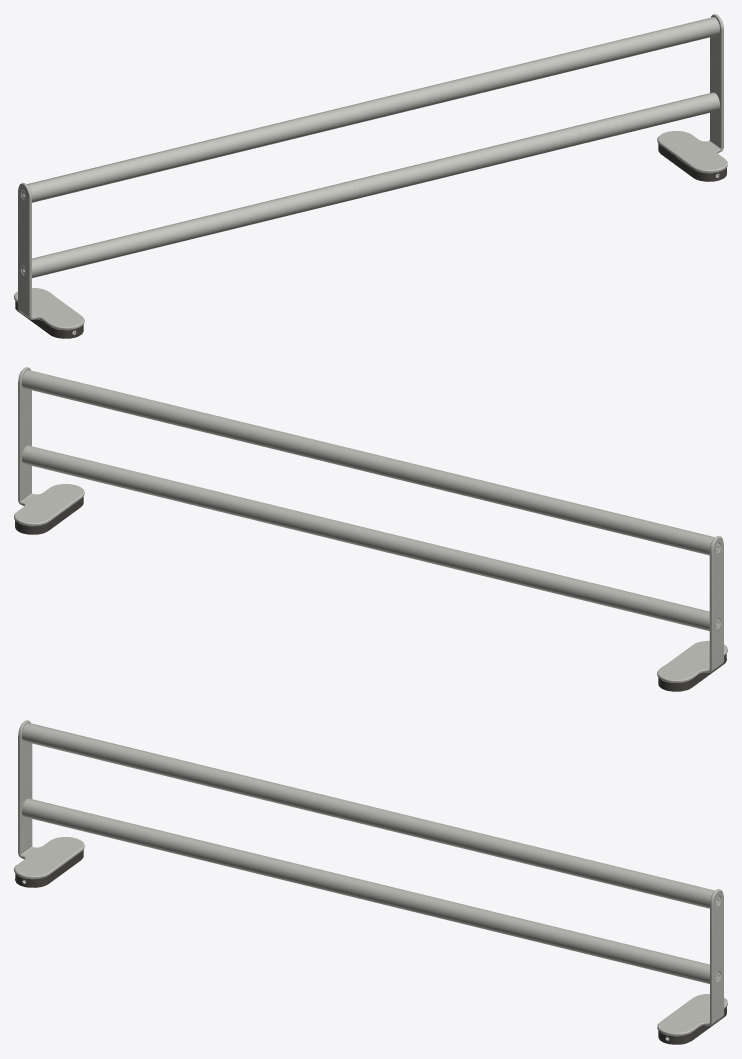
The model's file is Brogrund30328534.glb.
The picture shows the model from 3 angles, top to bottom: view 1: azimuth 30°, elevation 25°; view 2: azimuth 150°, elevation 25°; view 3: azimuth 330°, elevation 25°; orthographic projection.
Visible parts, largest first — view 1: 30328534-BROGRUND001; view 2: 30328534-BROGRUND001; view 3: 30328534-BROGRUND001.
Boxes of the visible parts, x1=… form: 30328534-BROGRUND001: x1=14, y1=14, x2=727, y2=338; 30328534-BROGRUND001: x1=14, y1=367, x2=727, y2=691; 30328534-BROGRUND001: x1=14, y1=720, x2=727, y2=1044.
Size of the model in its own units: 0.674 by 0.131 by 0.087.
1 material, 1 textured.
